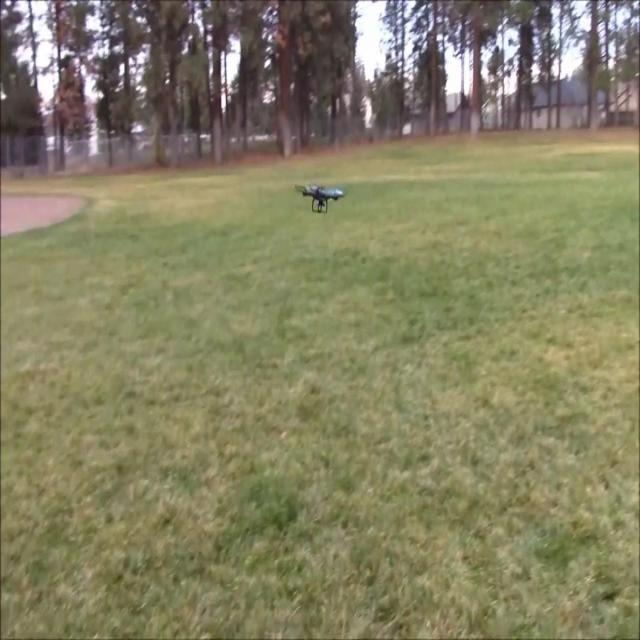drone: (293, 179, 348, 218)
